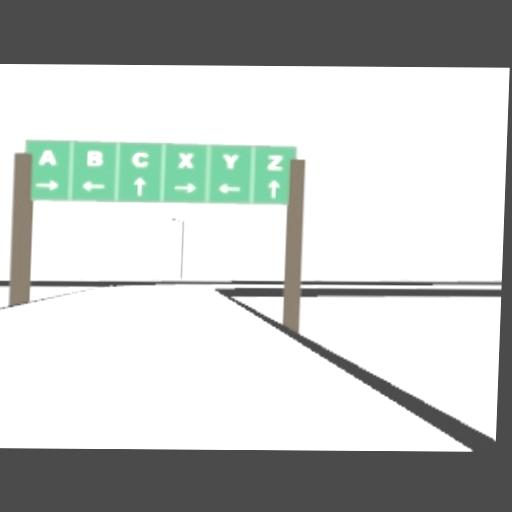A: (38, 147, 57, 165)
B: (86, 150, 102, 166)
C: (130, 150, 148, 168)
Left: (81, 179, 105, 190), (217, 184, 241, 193)
Right: (173, 182, 197, 193), (33, 181, 59, 190)
Straight: (133, 177, 146, 196), (267, 180, 279, 199)
X: (178, 151, 194, 167)
Y: (222, 154, 238, 168)
Z: (266, 154, 282, 170)
